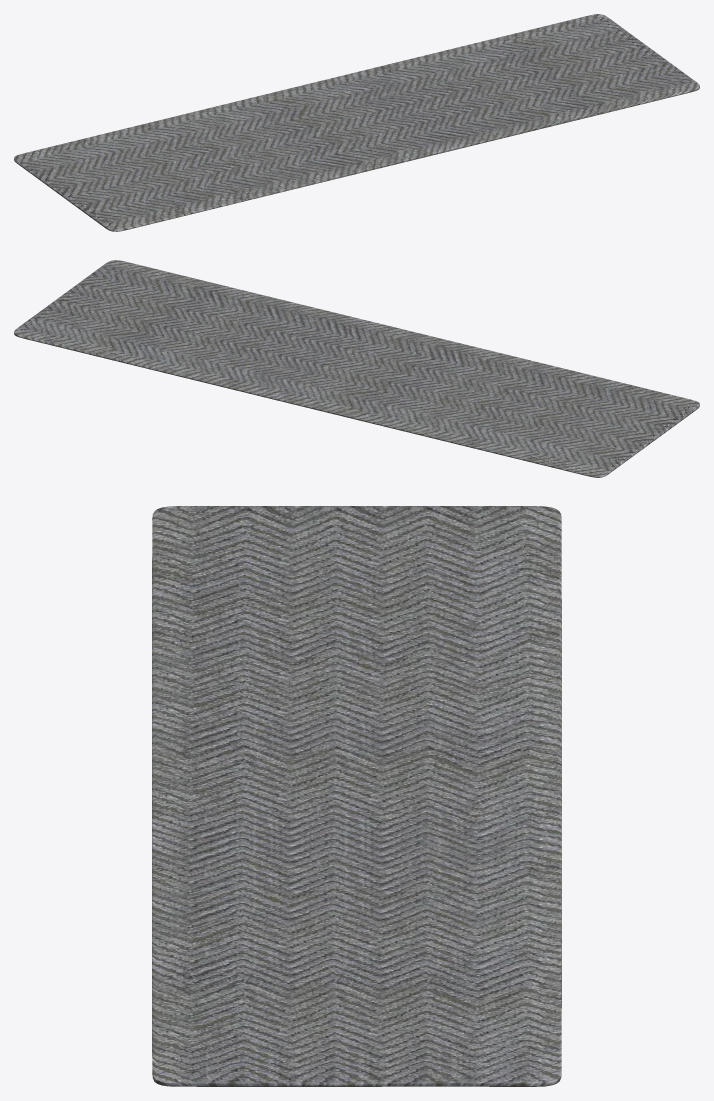
Rendered from B07B4ZFF2T.glb.
The picture shows the model from 3 angles, top to bottom: view 1: azimuth 30°, elevation 25°; view 2: azimuth 150°, elevation 25°; view 3: azimuth 270°, elevation 25°; orthographic projection. The views are drawn at different scales.
Parts seen in each view (by area): view 1: RootNode; view 2: RootNode; view 3: RootNode.
Boxes of the visible parts, x1,y1,x2,y2 form: RootNode: [14, 14, 699, 231]; RootNode: [14, 260, 699, 477]; RootNode: [152, 506, 561, 1086].
Size of the model in its own units: 2.29 by 0.00809 by 0.6861.
Materials: 1 (1 with a texture image).
